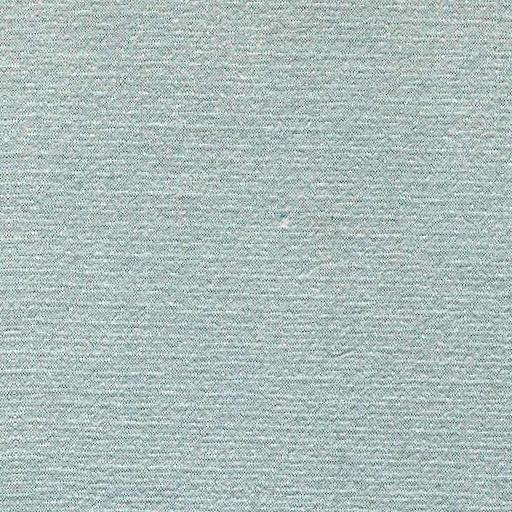knot: (269, 205, 299, 238)
